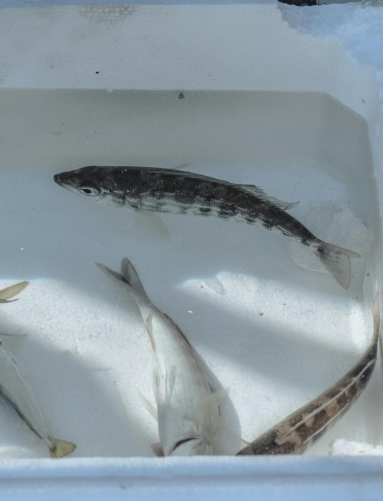fishLarge: (52, 161, 363, 291), (93, 257, 230, 457), (228, 291, 382, 457), (0, 330, 77, 458)
